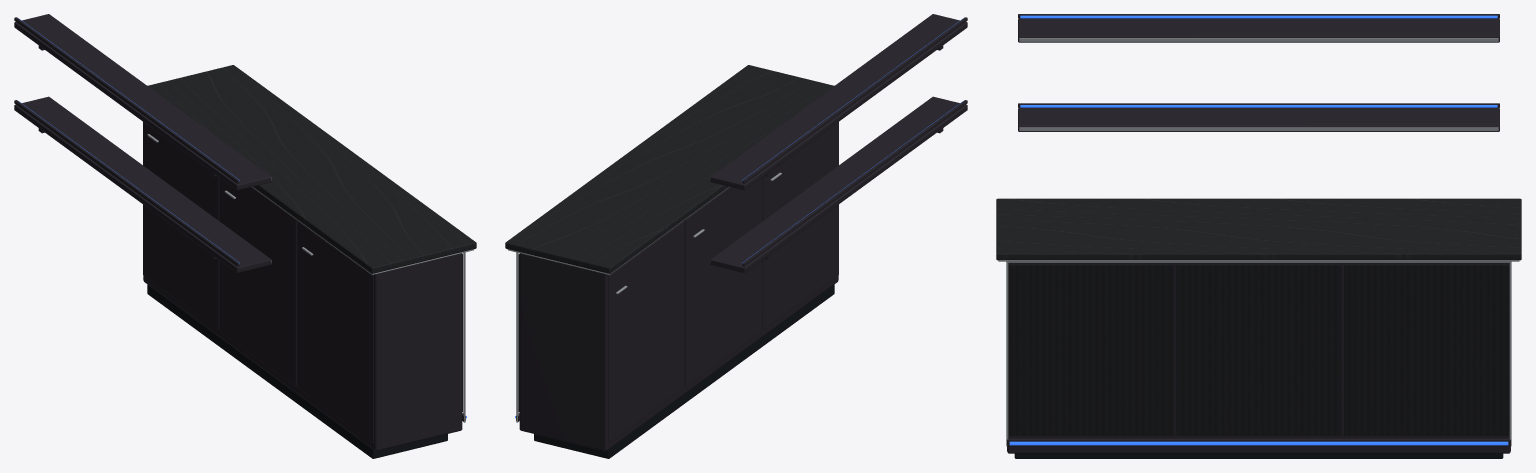
File: bar_sala_reservada_realista.glb
3 views of the same model, side by side, from view 1: azimuth 30°, elevation 25°; view 2: azimuth 150°, elevation 25°; view 3: azimuth 270°, elevation 25° (orthographic). The views are drawn at different scales.
Parts seen in each view (by area): view 1: Tampo em pedra preta, Corpo da bancada, Porta interna, Porta interna.001, Porta interna.002, Prateleira do bar, Prateleira do bar.001, Rodape recuado, Canaleta traseira da prateleira, Canaleta traseira da prateleira.001, Perfil vertical de canto; view 2: Tampo em pedra preta, Corpo da bancada, Porta interna.002, Porta interna.001, Porta interna, Prateleira do bar, Prateleira do bar.001, Rodape recuado, Canaleta traseira da prateleira, Canaleta traseira da prateleira.001, Perfil vertical de canto.001; view 3: Tampo em pedra preta, Painel frontal canelado, Painel frontal canelado.001, Painel frontal canelado.002, Prateleira do bar.001, Prateleira do bar, Corpo da bancada, Canaleta azul da base, Rodape recuado, Difusor azul da base, Perfil frontal da prateleira, Perfil frontal da prateleira.001 (+8 smaller).
Boxes of the visible parts, x1=… form: Tampo em pedra preta: x1=147, y1=65, x2=476, y2=273; Corpo da bancada: x1=143, y1=178, x2=462, y2=451; Porta interna: x1=297, y1=221, x2=373, y2=442; Porta interna.001: x1=220, y1=178, x2=296, y2=386; Porta interna.002: x1=143, y1=122, x2=219, y2=329; Prateleira do bar: x1=14, y1=96, x2=271, y2=272; Prateleira do bar.001: x1=14, y1=14, x2=271, y2=190; Rodape recuado: x1=147, y1=284, x2=447, y2=458; Canaleta traseira da prateleira: x1=14, y1=100, x2=239, y2=266; Canaleta traseira da prateleira.001: x1=14, y1=17, x2=239, y2=183; Perfil vertical de canto: x1=463, y1=252, x2=465, y2=422; Tampo em pedra preta: x1=505, y1=65, x2=834, y2=273; Corpo da bancada: x1=519, y1=178, x2=838, y2=451; Porta interna.002: x1=608, y1=221, x2=684, y2=442; Porta interna.001: x1=685, y1=178, x2=761, y2=386; Porta interna: x1=762, y1=122, x2=838, y2=329; Prateleira do bar: x1=710, y1=96, x2=967, y2=272; Prateleira do bar.001: x1=710, y1=14, x2=967, y2=190; Rodape recuado: x1=534, y1=284, x2=834, y2=458; Canaleta traseira da prateleira: x1=742, y1=100, x2=967, y2=266; Canaleta traseira da prateleira.001: x1=742, y1=17, x2=967, y2=183; Perfil vertical de canto.001: x1=516, y1=252, x2=518, y2=422; Tampo em pedra preta: x1=996, y1=198, x2=1521, y2=260; Painel frontal canelado: x1=1009, y1=264, x2=1174, y2=435; Painel frontal canelado.001: x1=1176, y1=264, x2=1341, y2=435; Painel frontal canelado.002: x1=1344, y1=264, x2=1508, y2=435; Prateleira do bar.001: x1=1018, y1=18, x2=1499, y2=42; Prateleira do bar: x1=1018, y1=108, x2=1499, y2=131; Corpo da bancada: x1=1007, y1=263, x2=1510, y2=453; Canaleta azul da base: x1=1007, y1=438, x2=1510, y2=446; Rodape recuado: x1=1014, y1=453, x2=1503, y2=458; Difusor azul da base: x1=1009, y1=441, x2=1508, y2=445; Perfil frontal da prateleira: x1=1019, y1=127, x2=1498, y2=131; Perfil frontal da prateleira.001: x1=1019, y1=38, x2=1498, y2=41.
Size of the model in its own units: 1.31 by 1.69 by 2.4.
6 materials, 2 textured.
